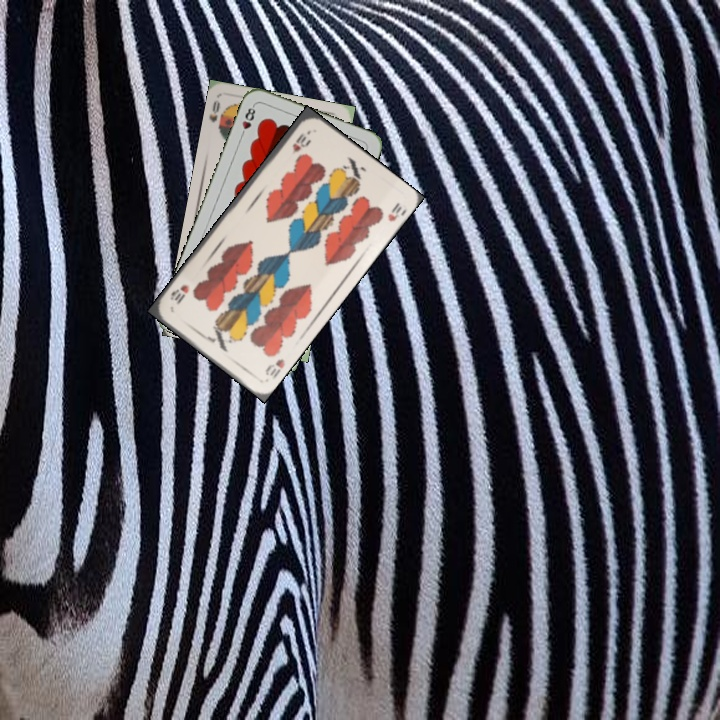H10: (261, 355, 288, 381), (287, 129, 309, 157)
H8: (236, 101, 258, 140)
SO: (205, 96, 227, 136)
